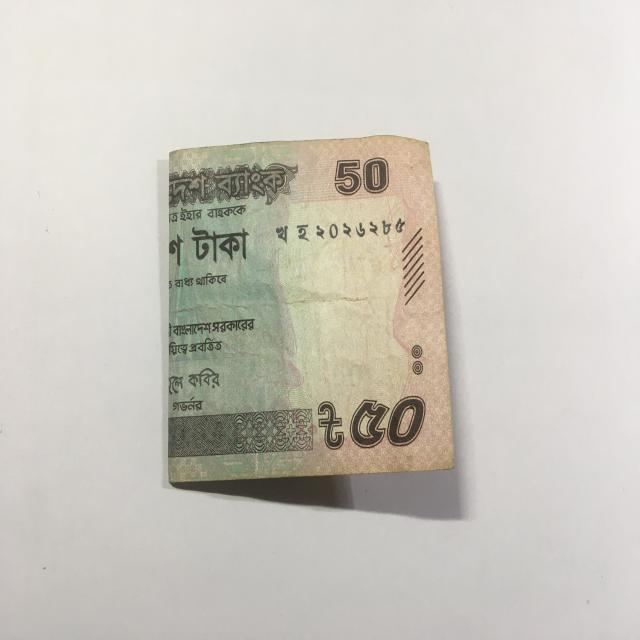Taka: (156, 136, 456, 482)
